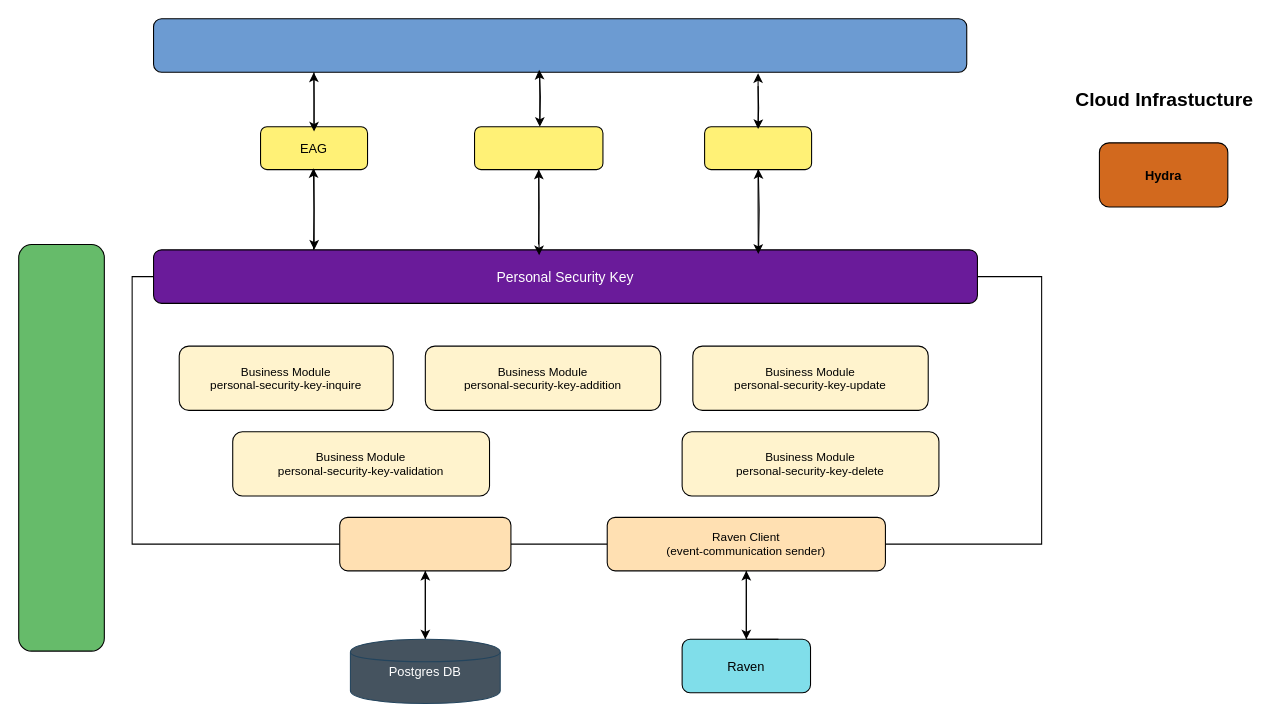
Image size: 1285x722. Some labels were removed from this diagram. The box of each missing label's shape, as (x1, y1, x2, y2) in pixels:
Consumers: (152, 18, 967, 72)
Data Module: (339, 516, 511, 571)
DataPower: (473, 126, 603, 170)
ELF: (18, 243, 104, 651)
MQ: (704, 126, 812, 170)
